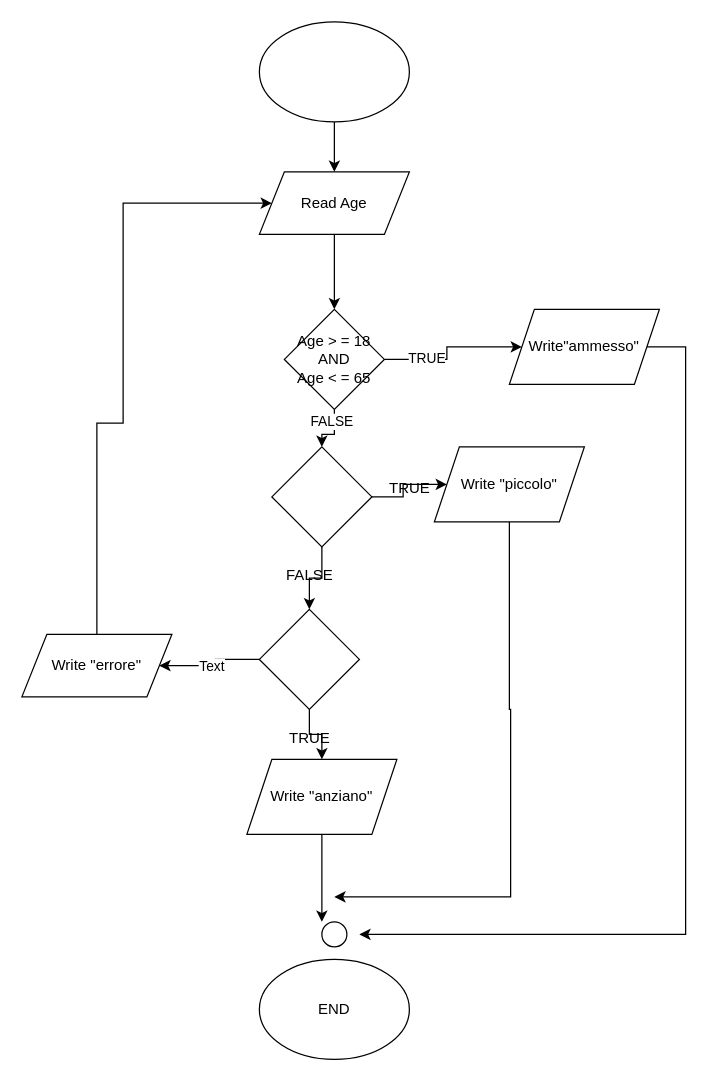
This 718x1081 diagram has some shape labels left out. Each missing label, with the box of its shape:
Age < 18: (271, 446, 372, 547)
Age > 65: (258, 608, 359, 709)
START: (258, 21, 409, 122)
